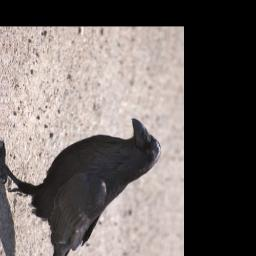Crow: (0, 110, 164, 256)
